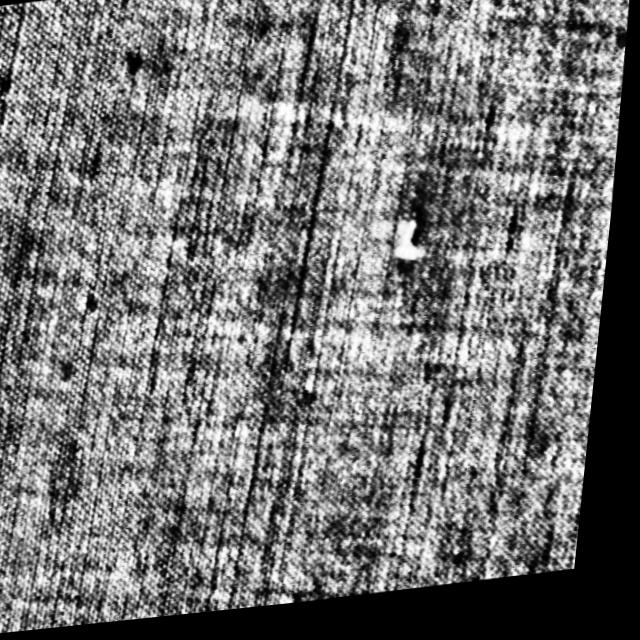Hole: (400, 222, 432, 281)
